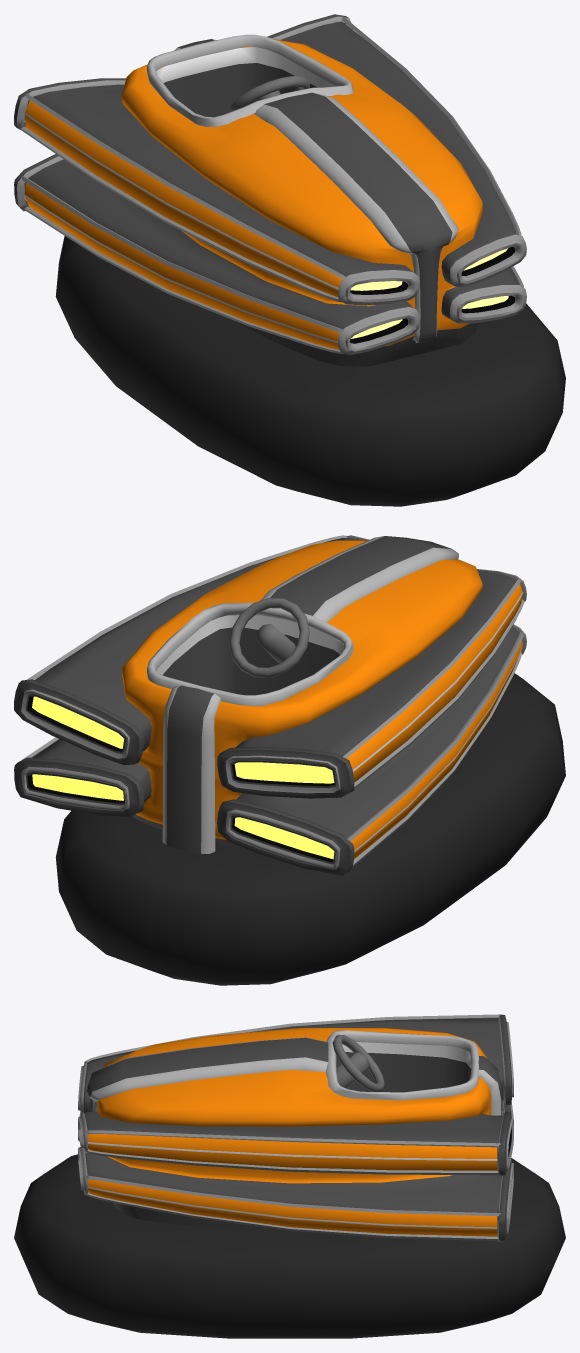
Rendered from mesh_Car_InGame_H.fbx.
3 views of the same model, one above another, from view 1: azimuth 30°, elevation 25°; view 2: azimuth 150°, elevation 25°; view 3: azimuth 270°, elevation 25° (orthographic). The views are drawn at different scales.
Parts seen in each view (by area): view 1: mesh_Car_InGame_H; view 2: mesh_Car_InGame_H; view 3: mesh_Car_InGame_H.
Part boxes in pixels (x1=…): mesh_Car_InGame_H: x1=14, y1=14, x2=565, y2=506; mesh_Car_InGame_H: x1=14, y1=535, x2=565, y2=985; mesh_Car_InGame_H: x1=14, y1=1014, x2=565, y2=1338.
Size of the model in its own units: 1.77 by 1.5 by 2.97.
